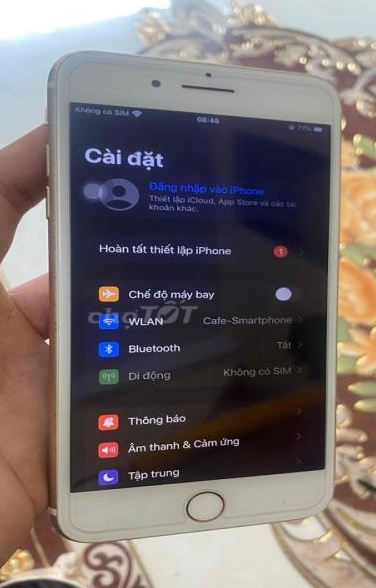scratch: (48, 262, 62, 424), (261, 491, 290, 516)
